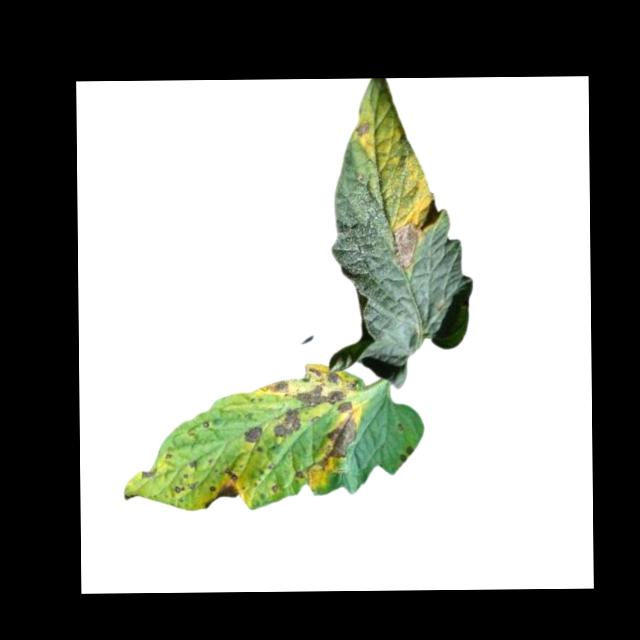Early_blight: (263, 361, 357, 415), (315, 415, 360, 472), (203, 468, 242, 509), (389, 225, 422, 270), (273, 412, 305, 440), (244, 425, 263, 446), (173, 483, 197, 497), (355, 121, 376, 136), (400, 447, 413, 464), (139, 468, 157, 480), (188, 459, 199, 472), (296, 470, 305, 481)
